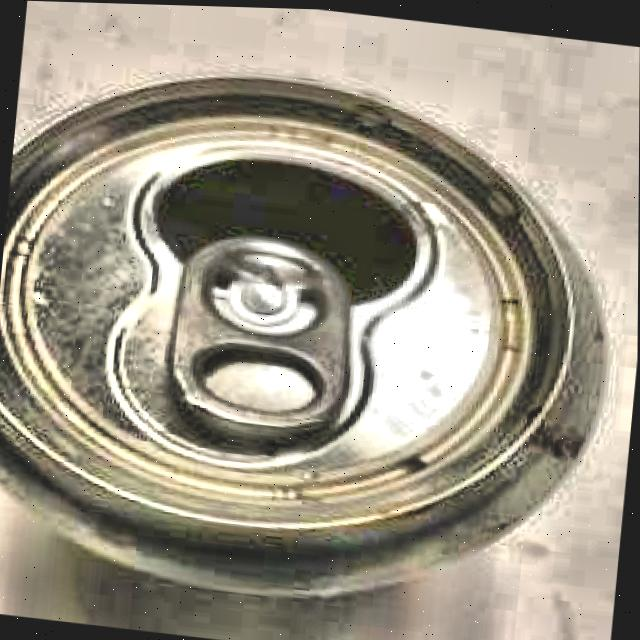metal: (0, 70, 612, 602)
